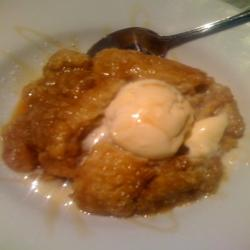apple_pie: (1, 46, 242, 231)
icecream: (103, 78, 202, 161)
